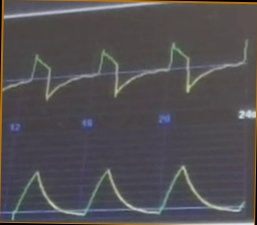Normal Flow: (3, 37, 250, 107)
Normal Volume: (11, 156, 246, 219)
